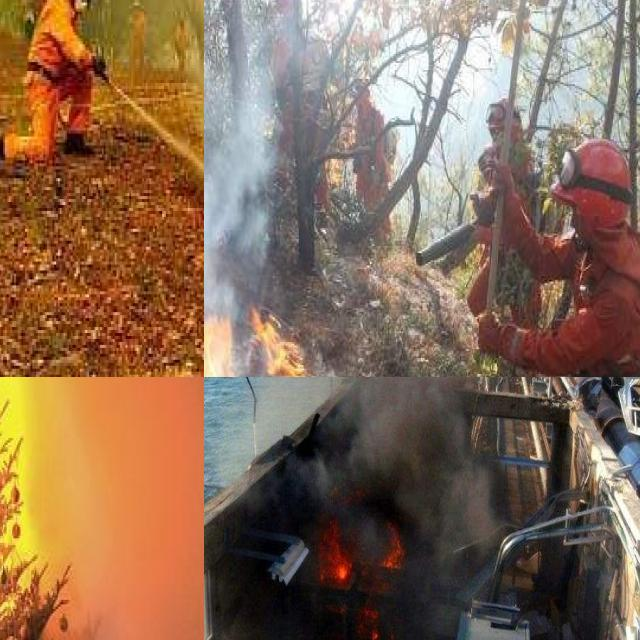fire: (314, 480, 409, 638)
smoke: (204, 0, 325, 374), (350, 377, 497, 576), (216, 377, 348, 480)
